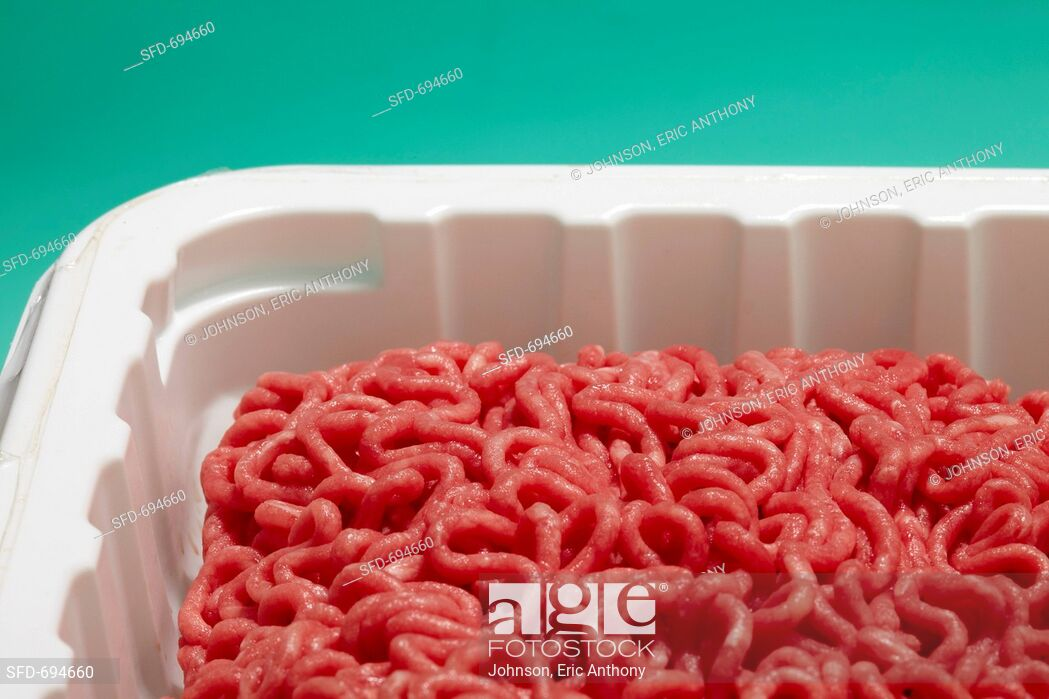ground_beef: (212, 335, 1049, 699)
